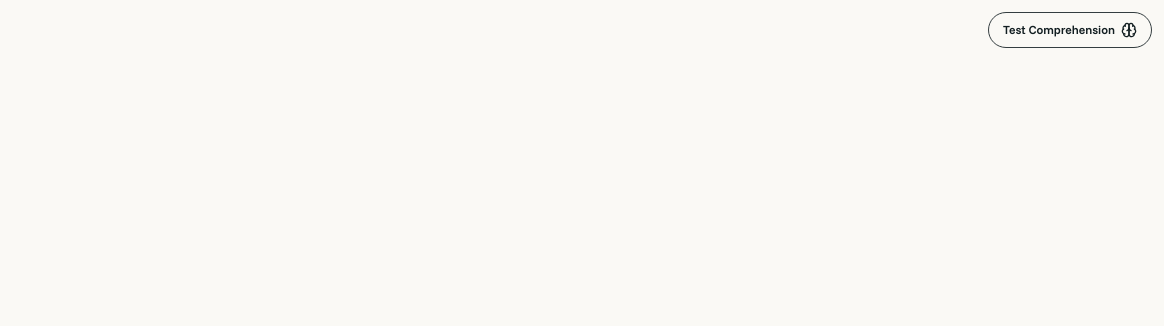
offering the quiz › generates the questions from the article itself
What coordinates should you click on to do the following:
click the button "Test Comprehension"
I would click on:
 (1070, 30)
Its box is [988,12,1152,48].
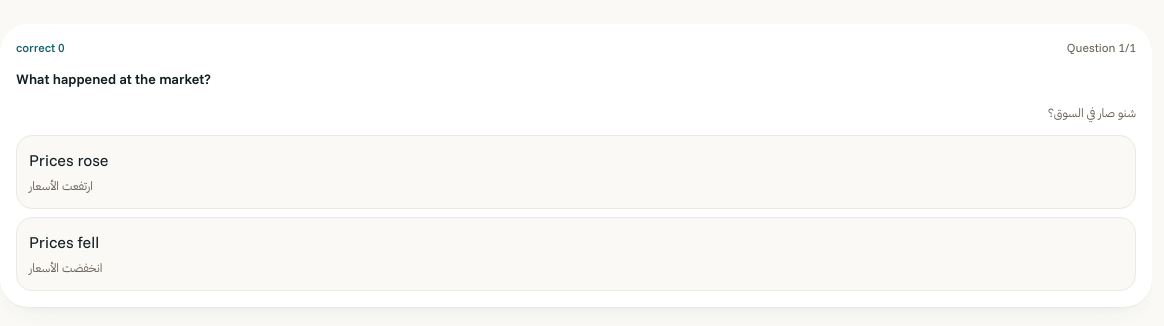
Expected: the text "Question 1/1" is shown, [1067,40,1136,56]
